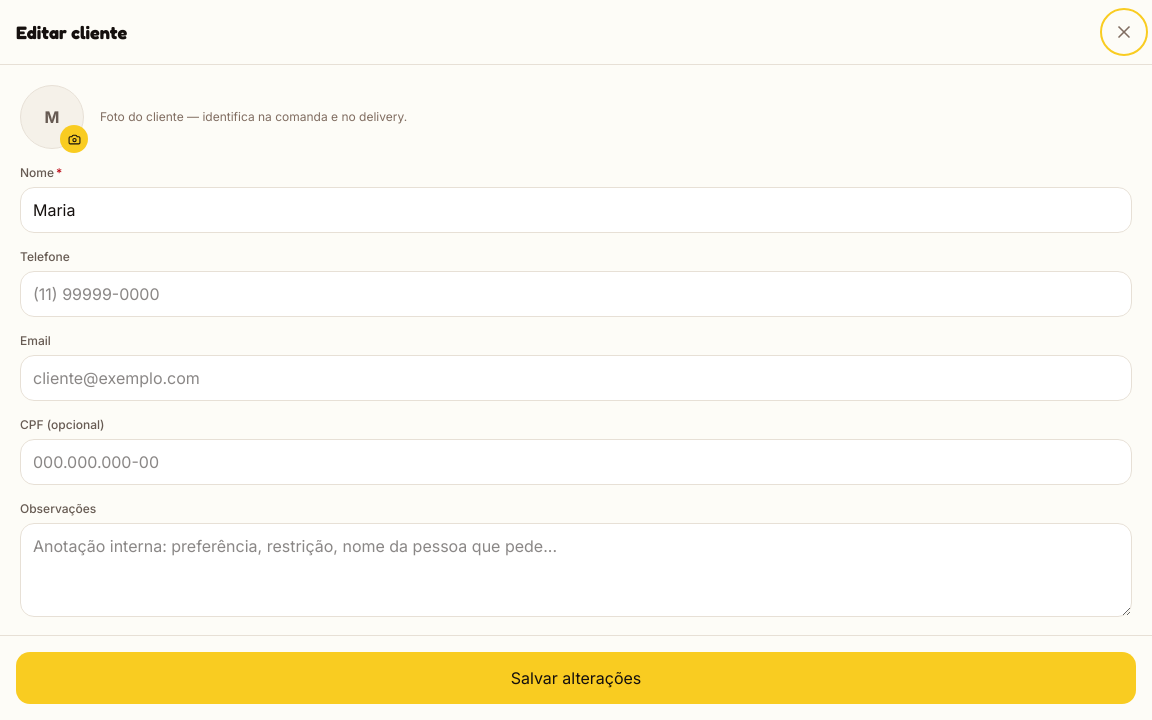
Test: CustomerModal › CPF com dígito verificador errado é recusado no campo
This screenshot has width=1152, height=720.
Replace the text in the field showing "Maria" with "Maria Silva": (576, 210) [20,187,1132,233]
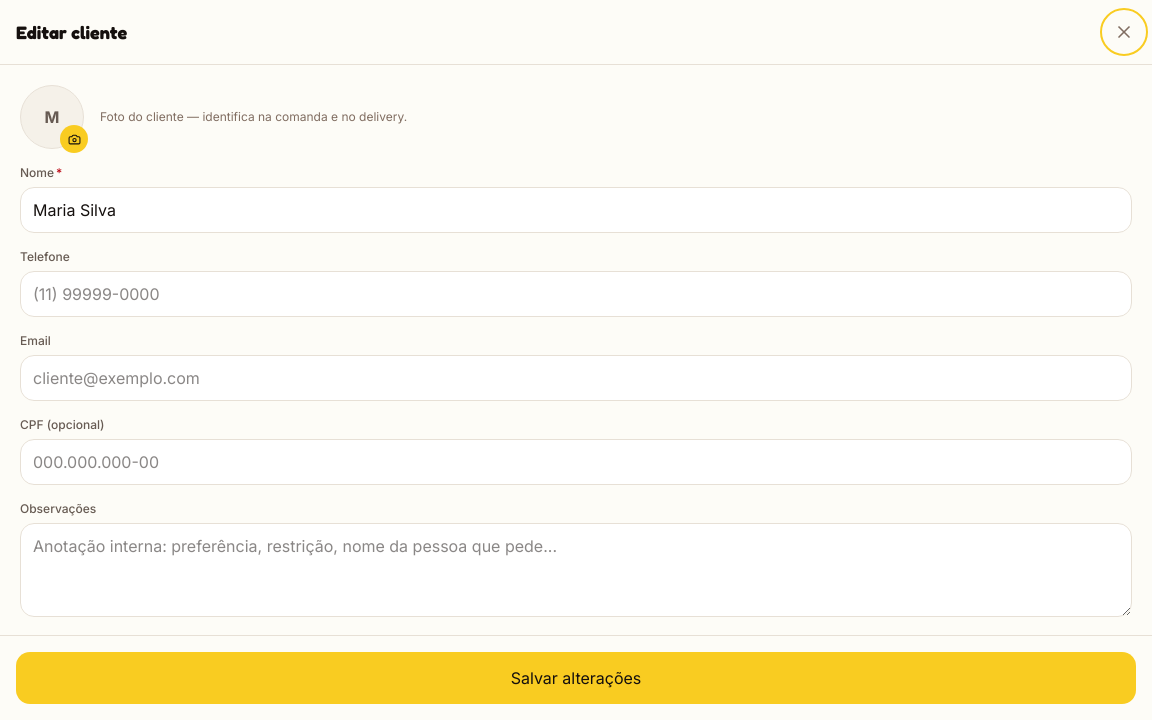
In the field with placeholder "000.000.000-00": (576, 462) [20,439,1132,485], type "123.456.789-00"
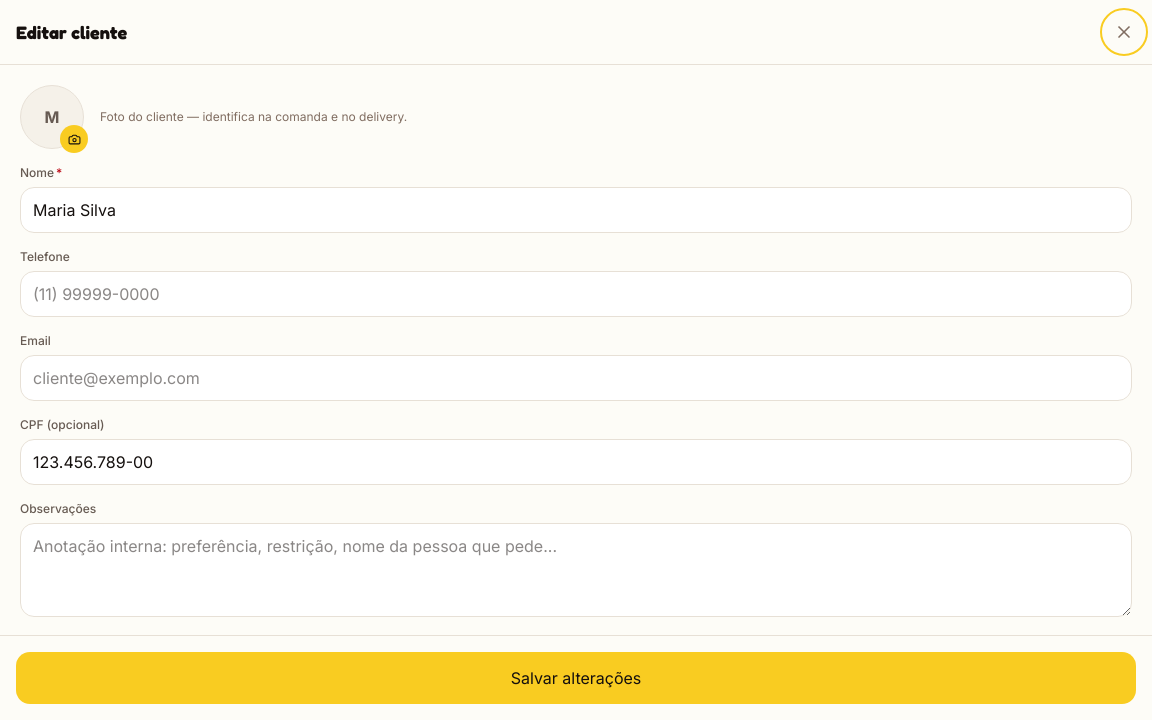
Click the button "Salvar alterações": (576, 678) [16,652,1136,704]
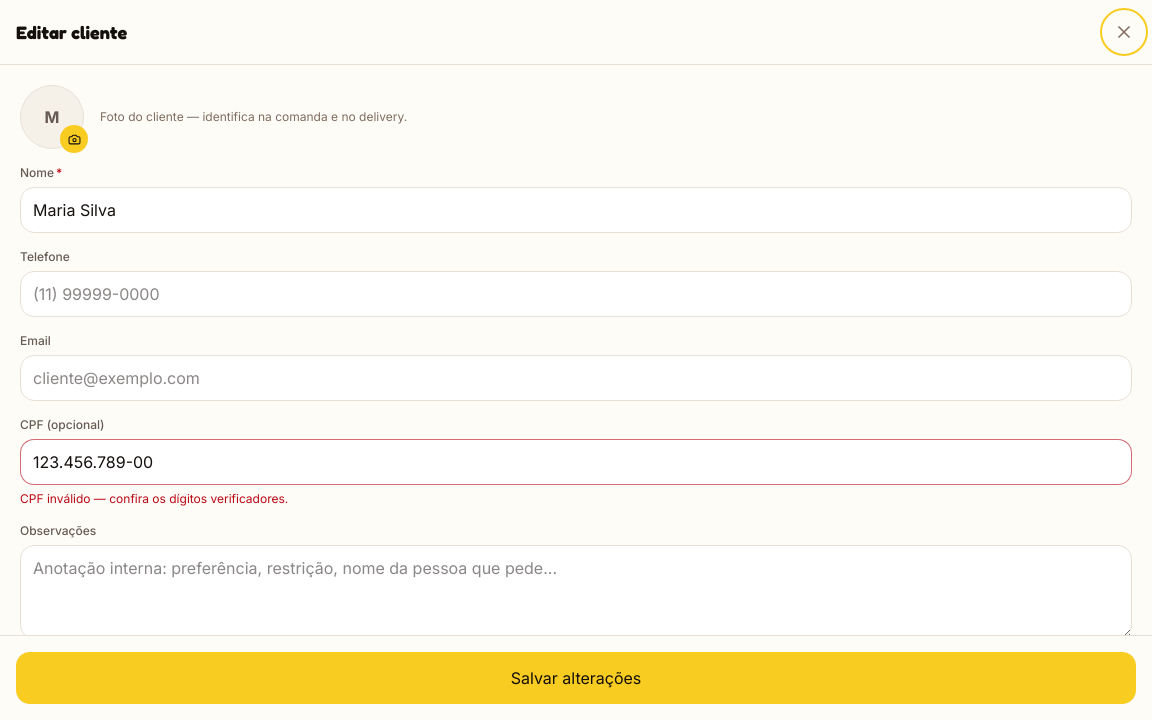
Check: the text "CPF inválido — confira os dígitos verificadores." is shown, box [20,491,288,506]
